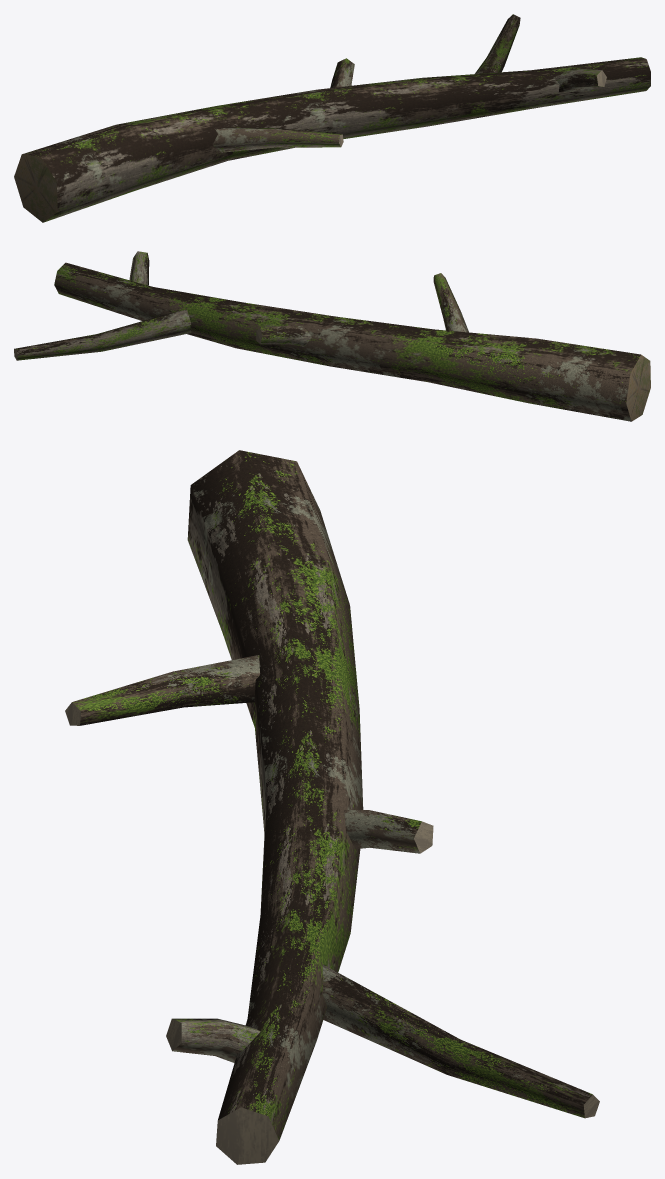
File: deadwood.glb
The picture shows the model from 3 angles, top to bottom: view 1: azimuth 30°, elevation 25°; view 2: azimuth 150°, elevation 25°; view 3: azimuth 270°, elevation 25°; orthographic projection. The views are drawn at different scales.
Visible parts, largest first — view 1: deadwood; view 2: deadwood; view 3: deadwood.
Part boxes in pixels (x1,y1,x2,y2): deadwood: (14,14,650,222); deadwood: (14,251,650,421); deadwood: (65,450,599,1164).
Size of the model in its own units: 2.02 by 0.2566 by 0.8047.
1 material, 1 textured.
